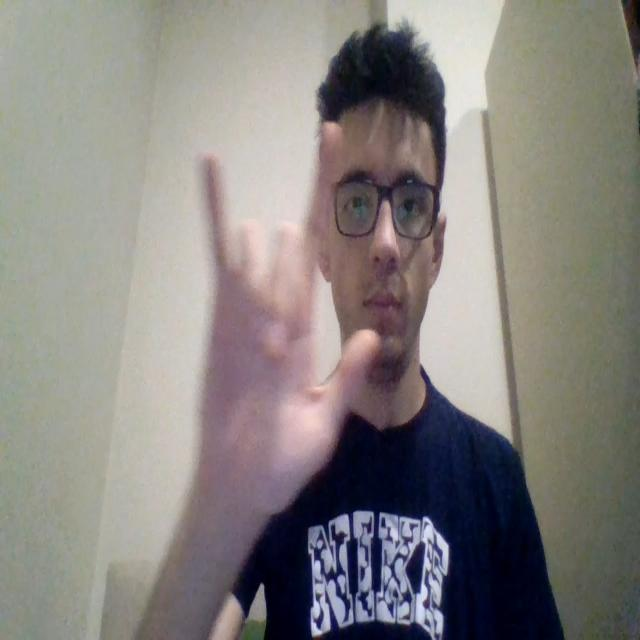iloveyou: (130, 151, 384, 638)
